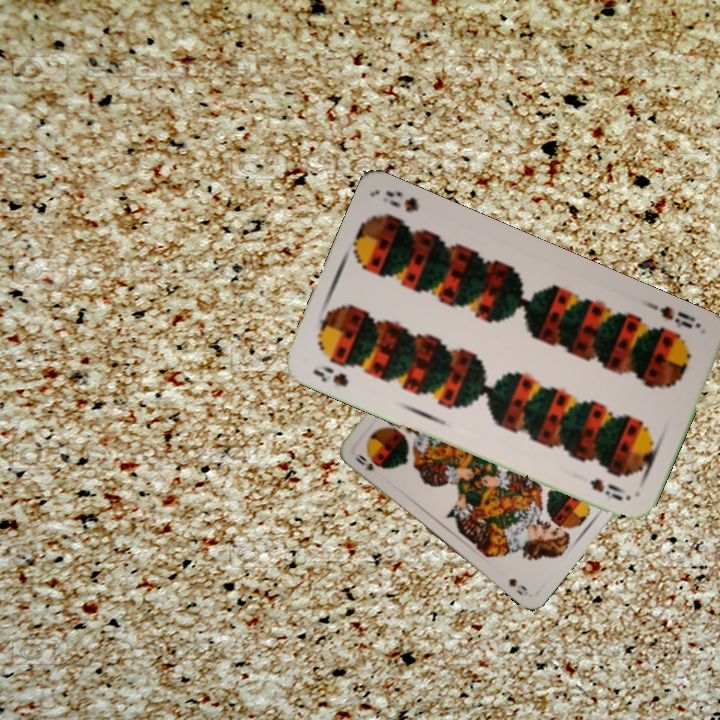S8: (309, 361, 351, 390), (656, 302, 695, 331)
SO: (350, 449, 377, 474)
